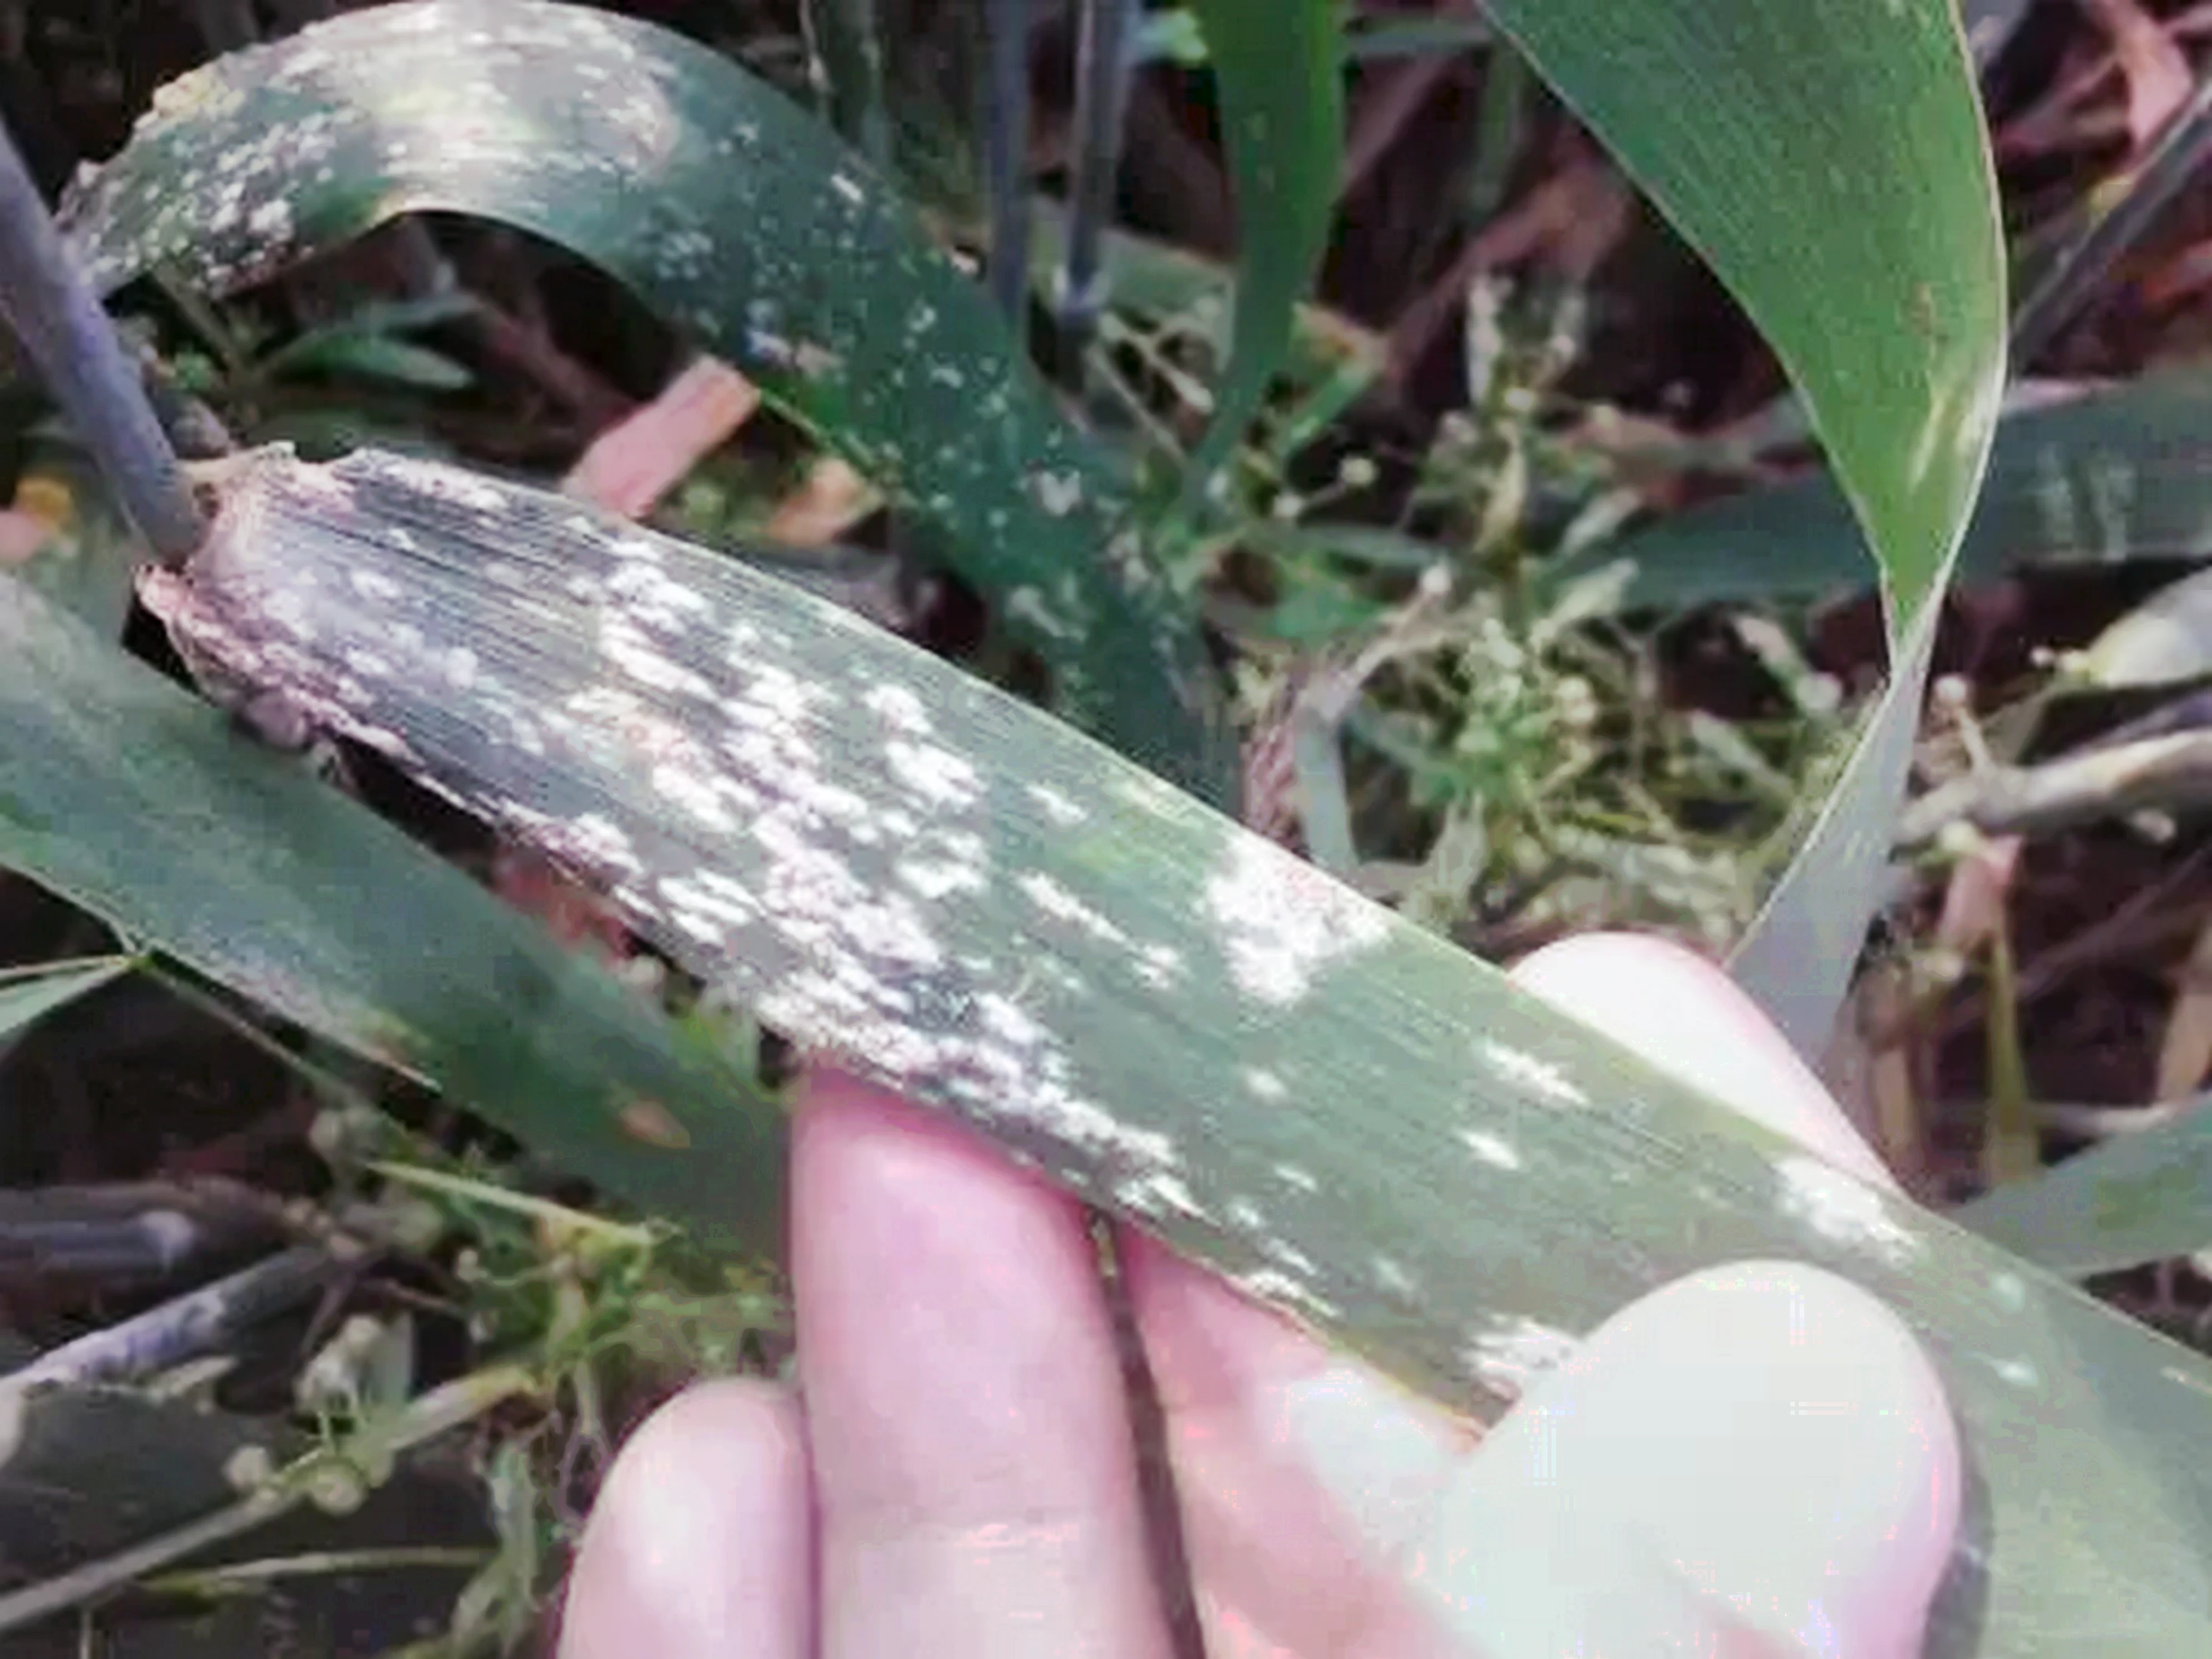Powdery Mildew: (448, 533, 1554, 1330)
